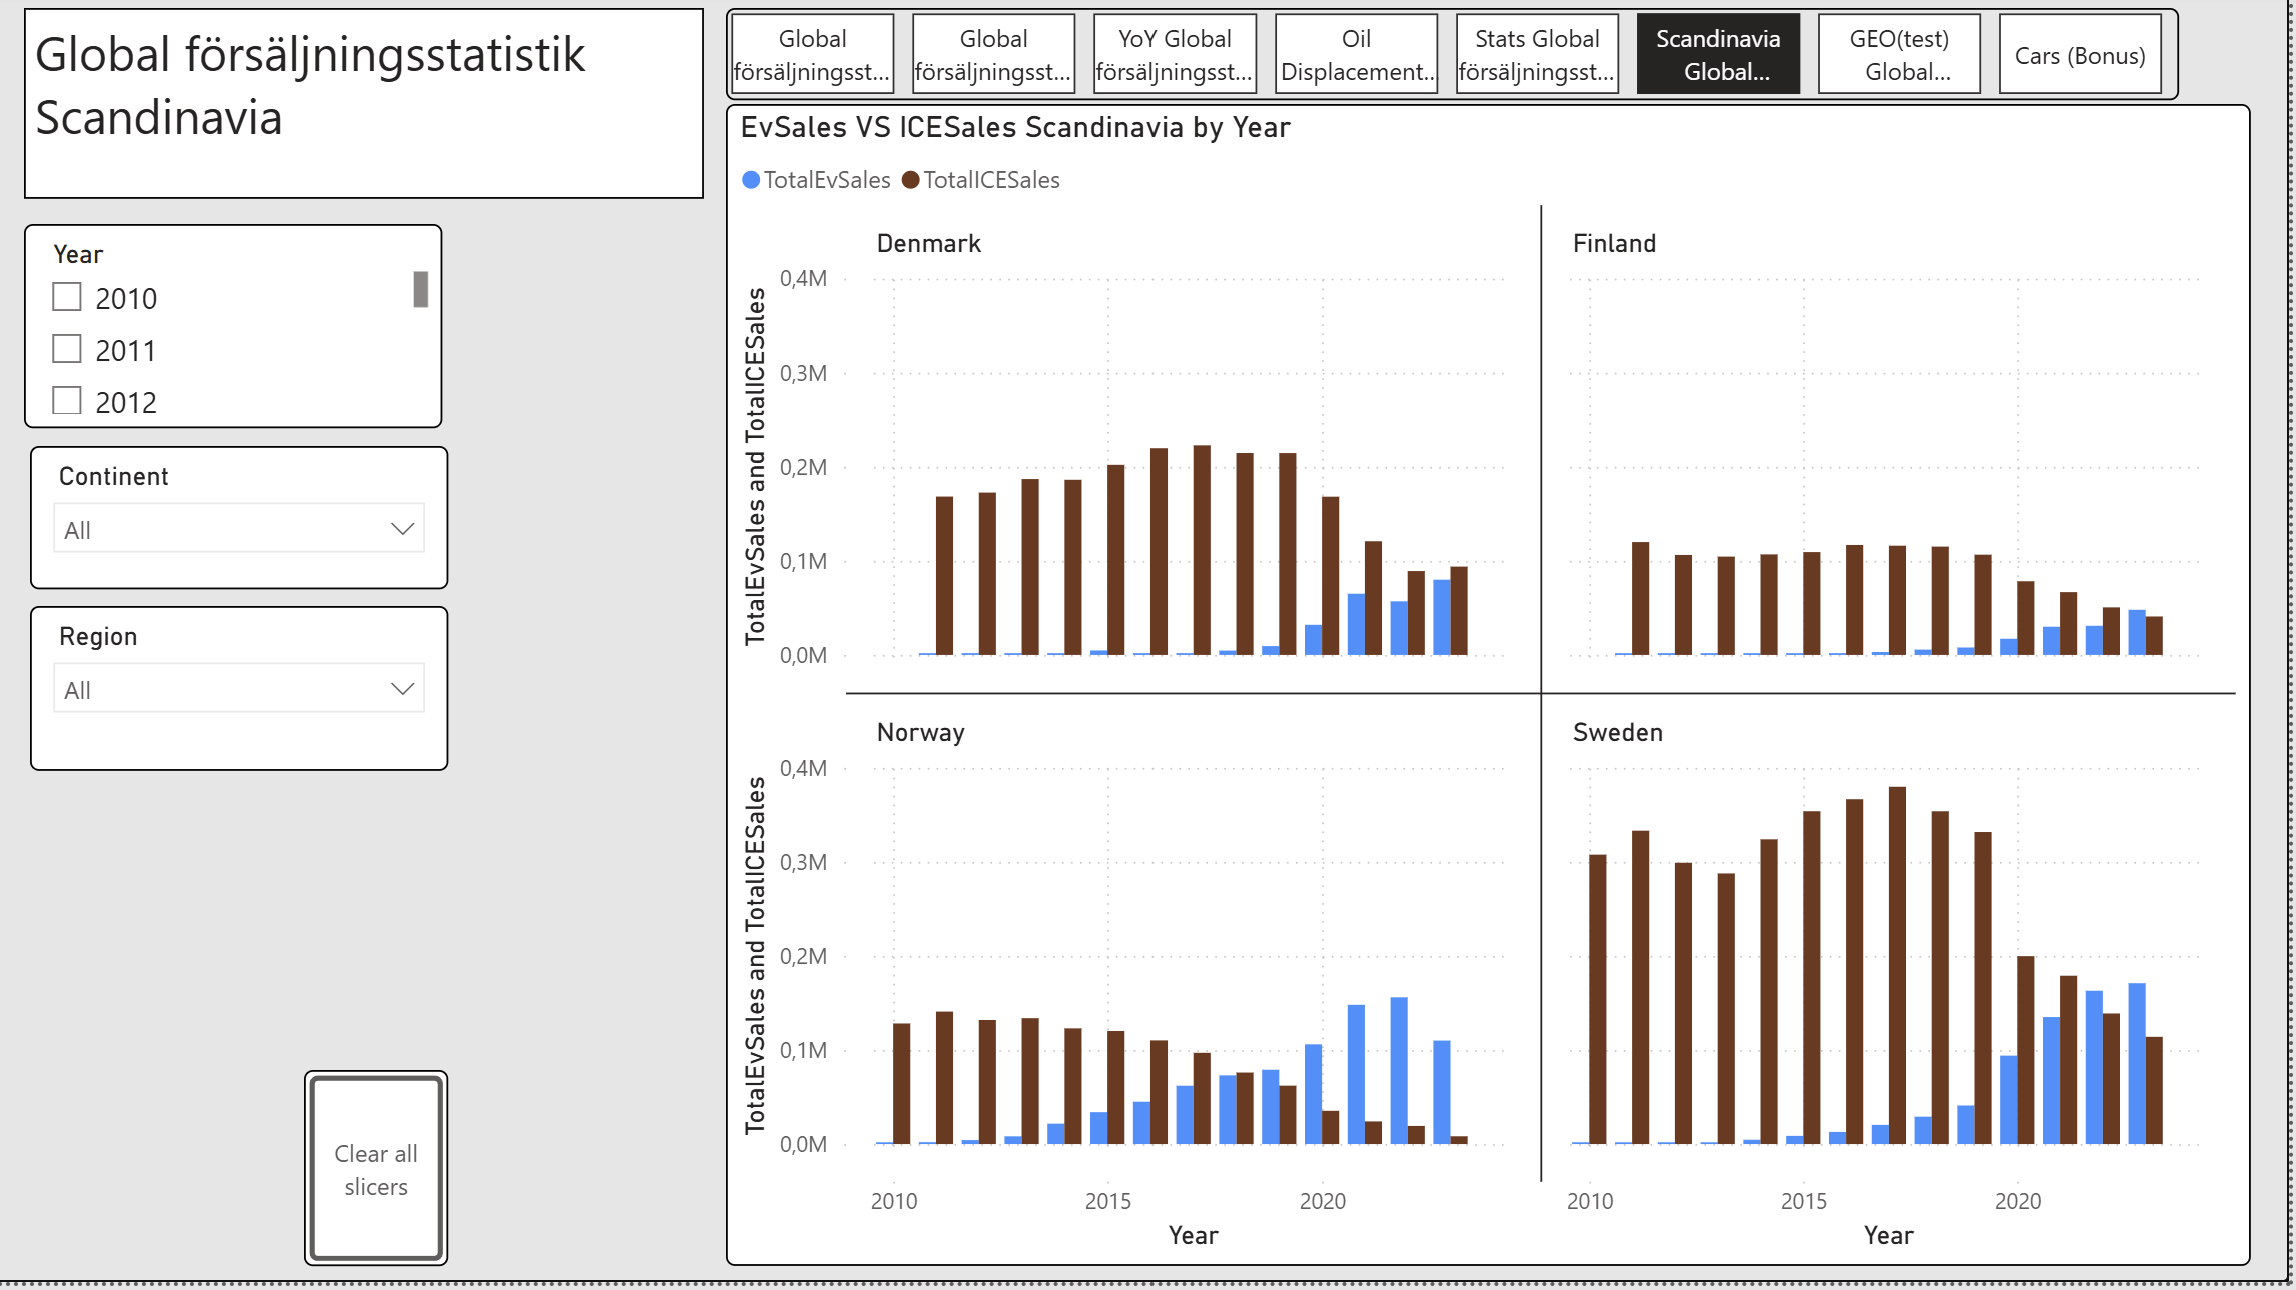

The dashboard page shown, as its layout file describes it:
{"tool":"powerbi","page":{"name":"Scandinavia Global försäljningsstatistik","canvas":[1280,720],"ordinal":5},"visuals":[{"type":"slicer","fields":{"Values":["Dim region.region"]},"box":[19.7,342.6,233.6,91.9],"z":0},{"type":"slicer","fields":{"Values":["Dim_date.Year"]},"box":[17.1,130,233.6,114.2],"z":1000},{"type":"slicer","fields":{"Values":["Dim Region.Kontinent"]},"box":[19.7,253.3,233.6,80.1],"z":2000},{"type":"actionButton","box":[173.6,601.3,80.6,109.7],"z":3000},{"type":"clusteredColumnChart","title":"EvSales VS ICESales Scandinavia by Year","fields":{"Y":["+Measure.TotalEvSales","+Measure.TotalICESales"],"Category":["Dim_date.Year1.Variation.Date Hierarchy.Year"],"Rows":["Dim Region.Region"]},"box":[408.2,63,850.6,648.4],"z":4000},{"type":"textbox","box":[17.1,9.2,379.4,106.3],"z":5000},{"type":"pageNavigator","box":[408.7,9,810.7,51.5],"z":6000}]}

Visuals, with their boxes on the page's 1280x720 design canvas (x1, y1, x2, y2). These are canvas units, not pixel positions in the 2296x1290 screenshot, which may show the page scaled, cropped or inside an application window:
slicer - Dim region.region: 20/343/253/434
slicer - Dim_date.Year: 17/130/251/244
slicer - Dim Region.Kontinent: 20/253/253/333
actionButton: 174/601/254/711
"EvSales VS ICESales Scandinavia by Year" clusteredColumnChart: 408/63/1259/711
textbox: 17/9/396/116
pageNavigator: 409/9/1219/60
